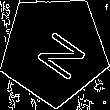N_NW: (23, 19, 85, 81)
